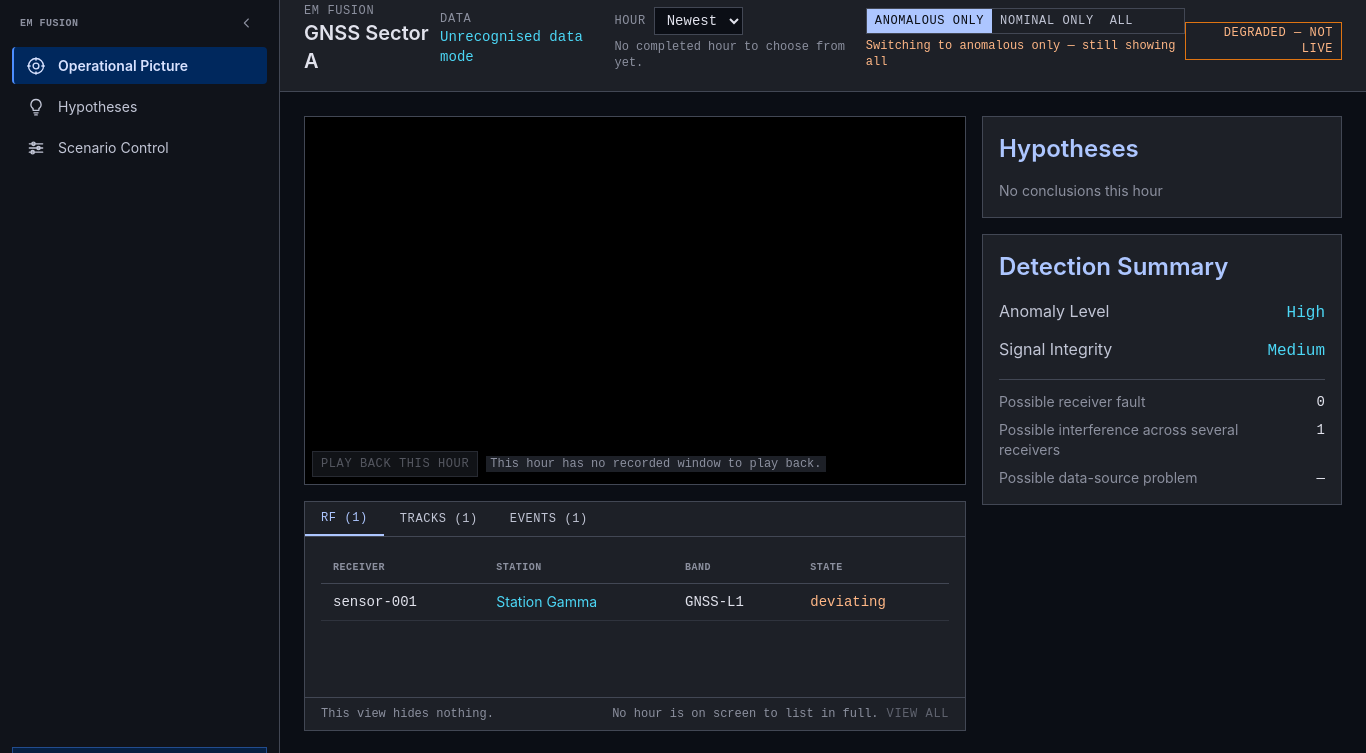
it: the standing badge › survives the rail collapsing, reading the claim rather than an abbreviation
This screenshot has width=1366, height=753.
Click the button named "collapse navigation": click(247, 23) [235, 11, 259, 35]
(page scrolled)
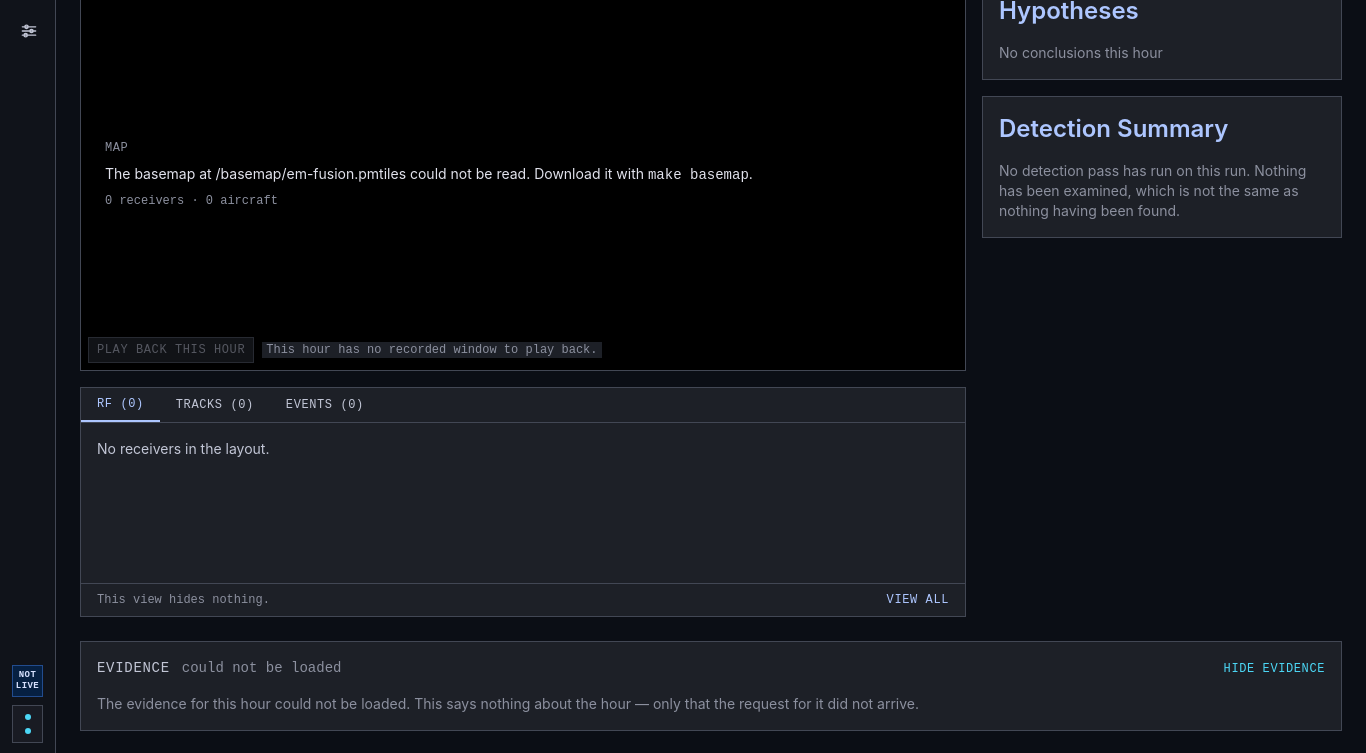
Now the text "NOT LIVE" is shown, box [15, 670, 40, 692]
